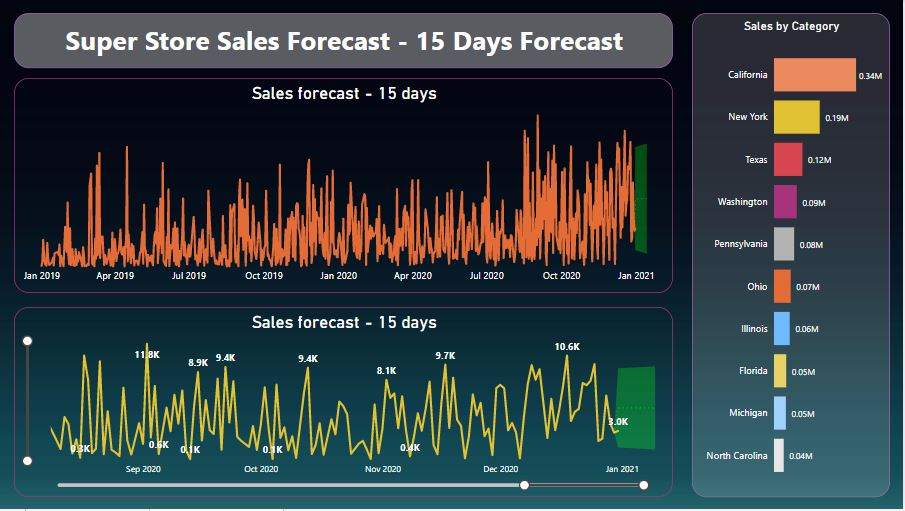

This screenshot's page, from the dashboard's own definition file:
{"tool":"powerbi","page":{"name":"Sales Forecasting","canvas":[1280,720],"ordinal":1},"visuals":[{"type":"lineChart","title":"Sales Forecast - 15 days","fields":{"Y":["Sum(SuperStore_Sales_Dataset.Sales)"],"Category":["SuperStore_Sales_Dataset.Order Date"]},"box":[21.2,110.3,932.2,304.1],"z":0},{"type":"lineChart","title":"Sales Forecast - 15 days ","fields":{"Y":["Sum(SuperStore_Sales_Dataset.Sales)"],"Category":["SuperStore_Sales_Dataset.Order Date"]},"box":[21.2,434.3,932.2,268.8],"z":1000},{"type":"clusteredBarChart","title":"Sales by State","fields":{"Y":["Sum(SuperStore_Sales_Dataset.Sales)"],"Category":["SuperStore_Sales_Dataset.State"]},"box":[980.3,18.4,280.1,684.6],"z":2000},{"type":"textbox","box":[21.2,18.4,932.2,77.8],"z":3000}]}

Visuals, with their boxes in screenshot pixels (x1, y1, x2, y2), scaled from the page's 1280x720 canvas onto the 905x511 screenshot:
"Sales Forecast - 15 days" lineChart: {"x1": 15, "y1": 78, "x2": 674, "y2": 294}
"Sales Forecast - 15 days " lineChart: {"x1": 15, "y1": 308, "x2": 674, "y2": 499}
"Sales by State" clusteredBarChart: {"x1": 693, "y1": 13, "x2": 891, "y2": 499}
textbox: {"x1": 15, "y1": 13, "x2": 674, "y2": 68}
